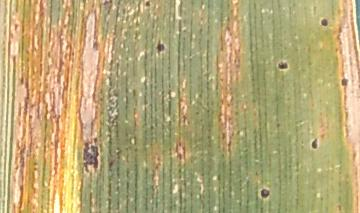tarspot: (82, 141, 102, 175), (259, 186, 273, 202), (155, 40, 169, 55), (310, 136, 320, 154), (318, 16, 331, 28), (276, 60, 290, 71), (340, 78, 351, 86), (142, 1, 153, 8)
